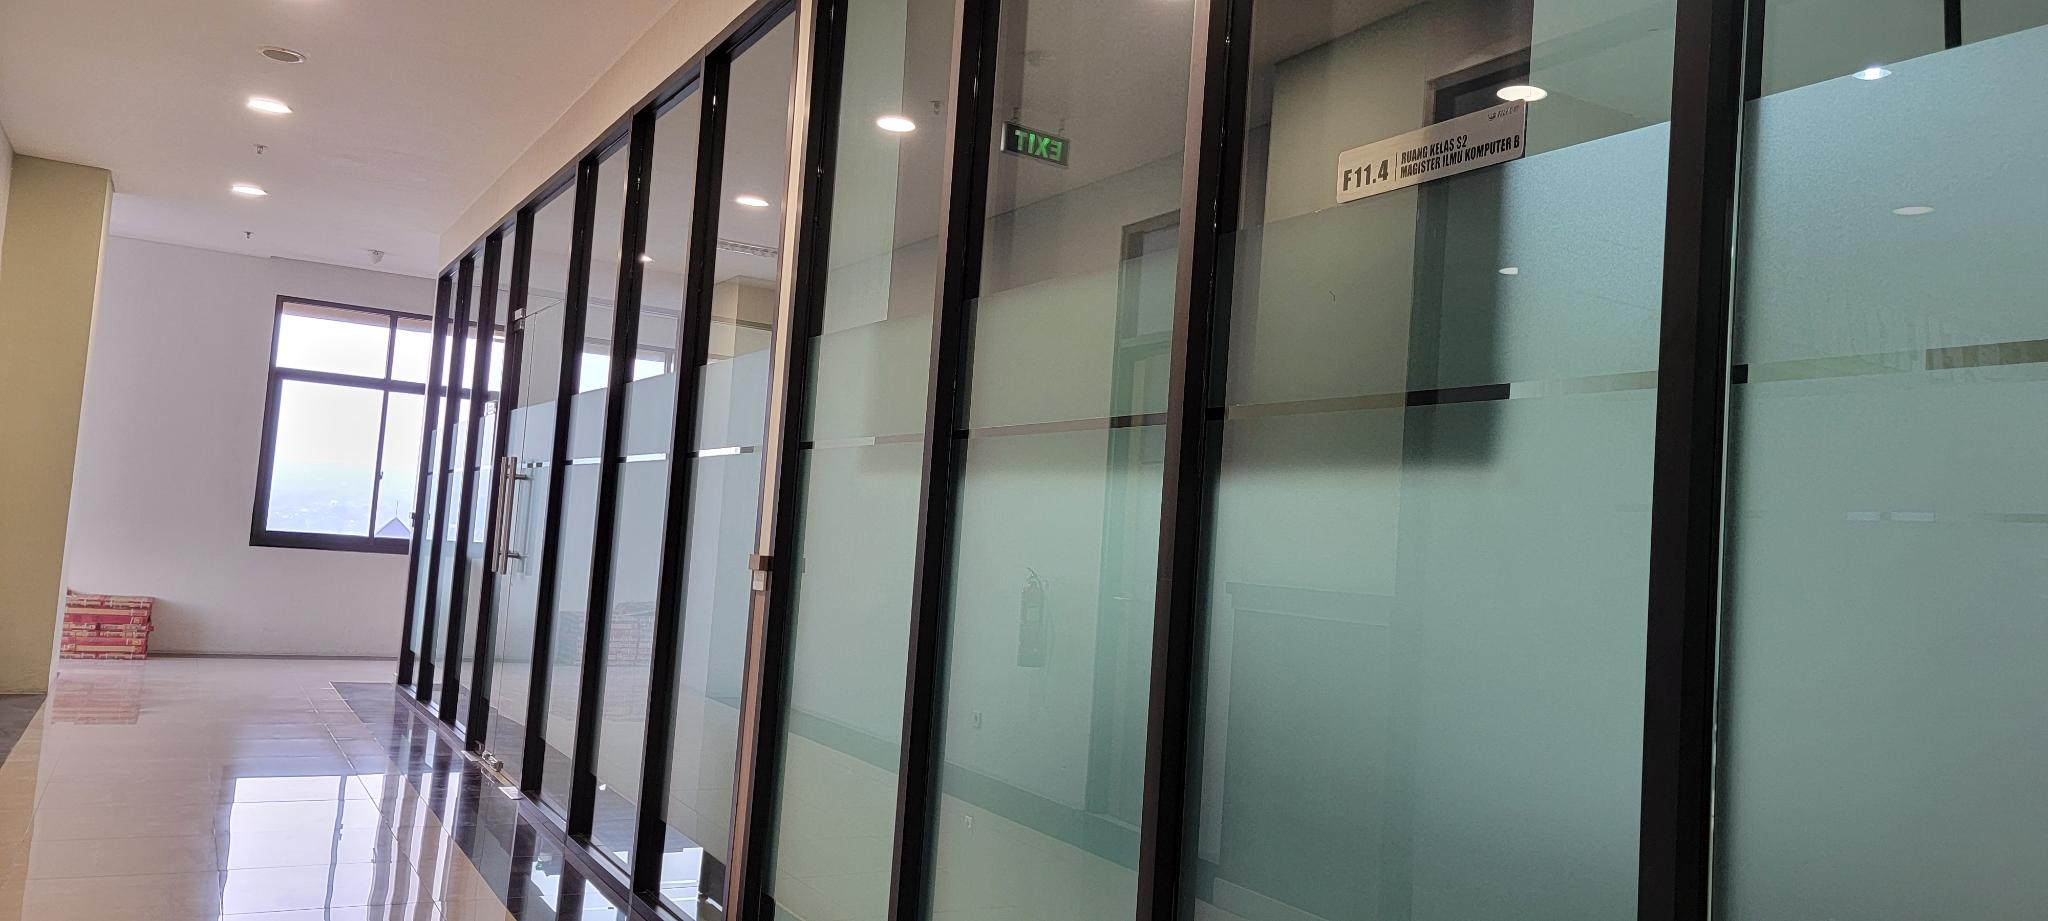plate: (1336, 95, 1531, 208)
